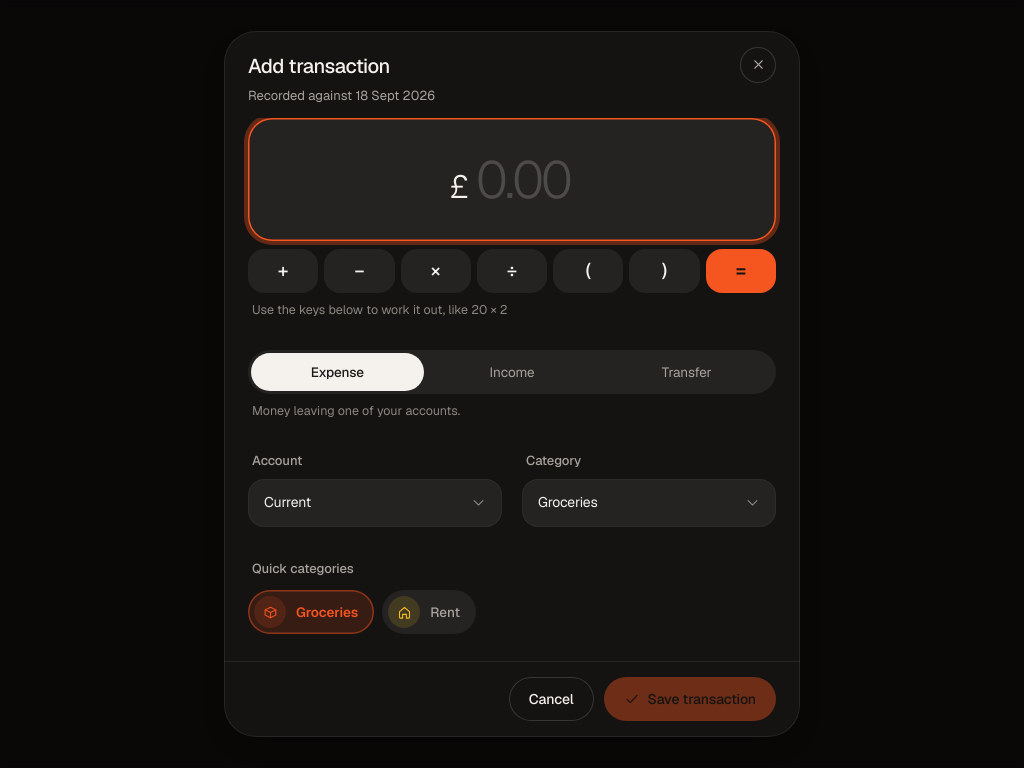
which accounts are offered › leaves out a closed one
This screenshot has width=1024, height=768.
Click the dropdown named "account": coordinates (375, 503) [248,479,502,527]
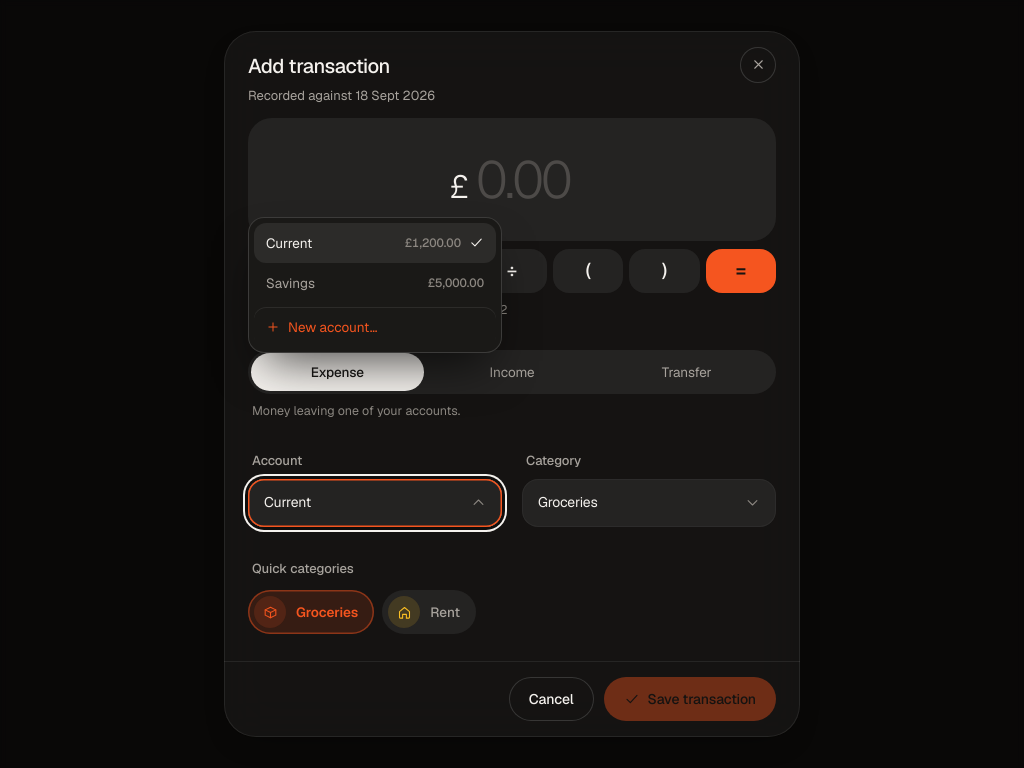
expect the option "Current £1,200.00" is shown: met, box [254,223,496,263]
